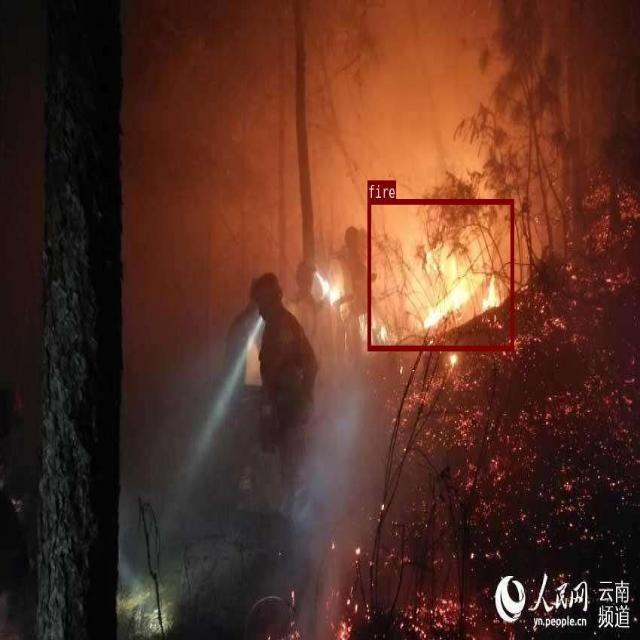fire: (367, 199, 513, 349)
